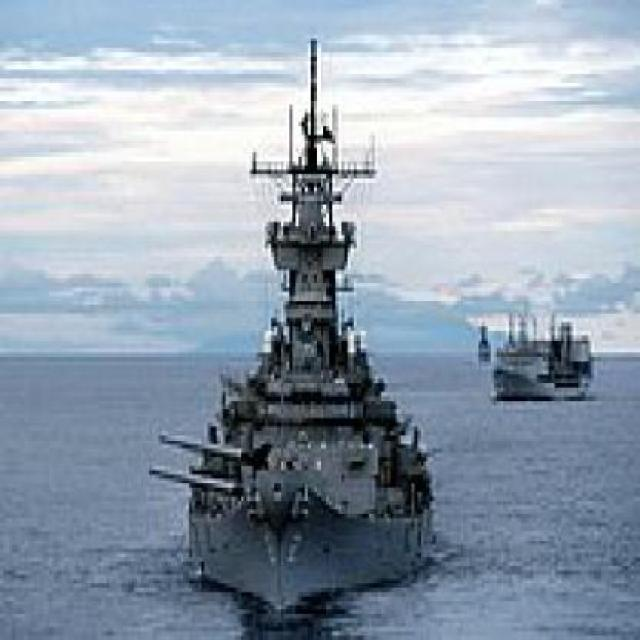warship2: (162, 53, 458, 598)
